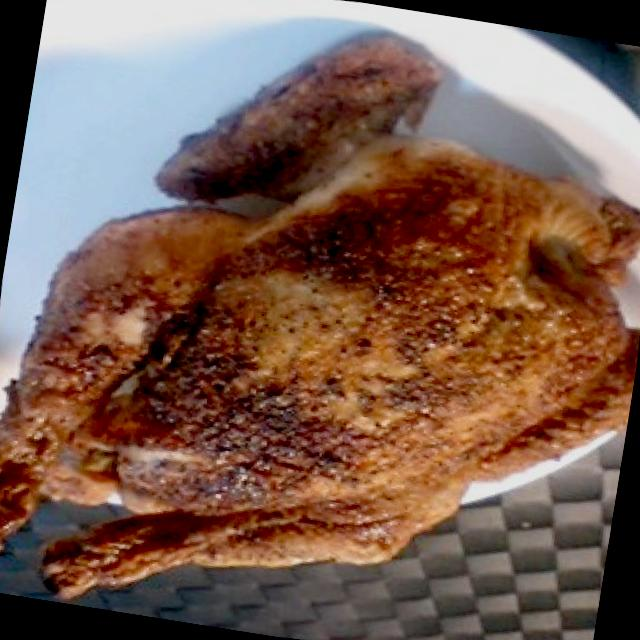Chicken: (0, 45, 640, 640)
